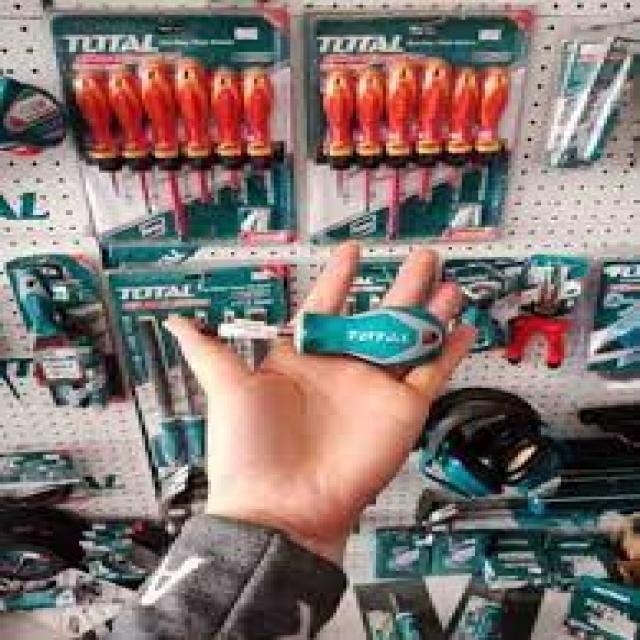screwdriver: (183, 304, 447, 364)
